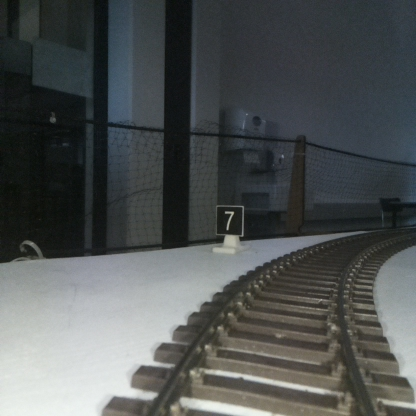black-stop-7: (216, 206, 242, 250)
